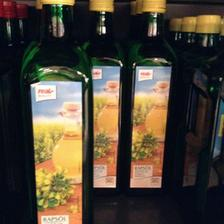Oel: (20, 0, 92, 224), (125, 0, 179, 192), (82, 0, 127, 194)
